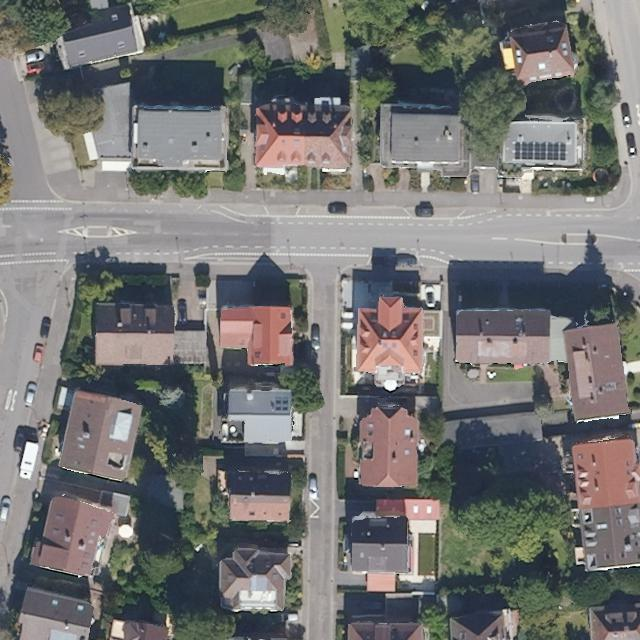PV: (513, 142, 565, 160), (274, 396, 289, 413)
